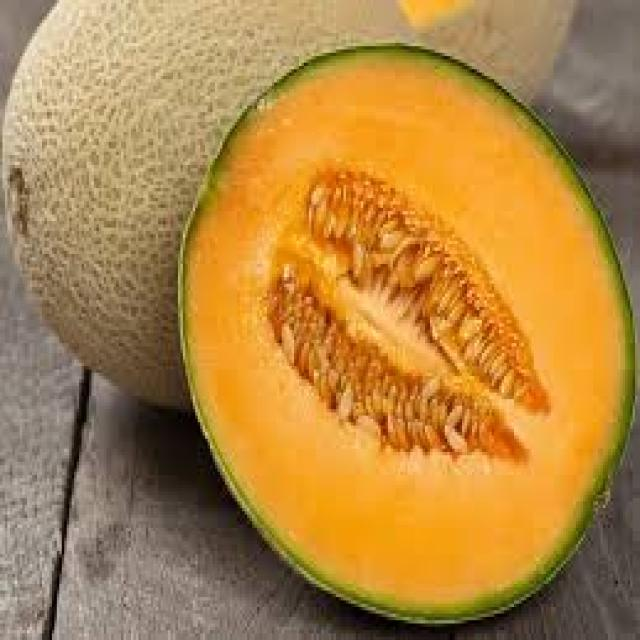cantaloupe: (176, 40, 640, 624)
